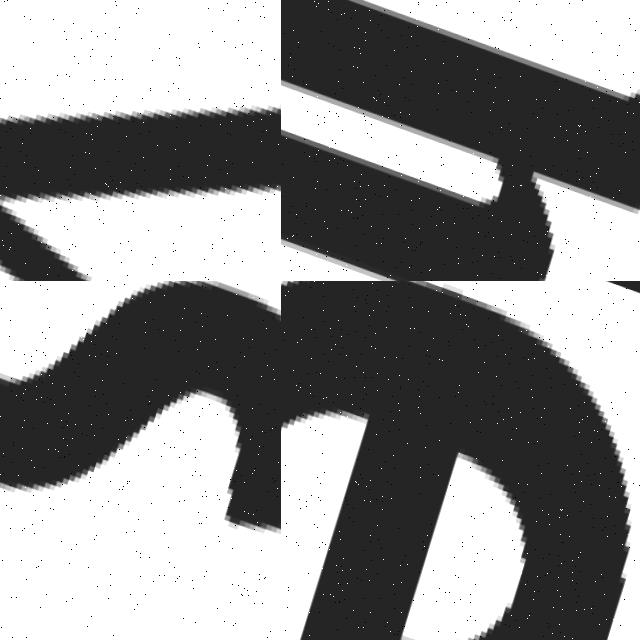E: (281, 281, 625, 640)
H: (281, 0, 640, 281)
S: (0, 281, 281, 608)
V: (0, 0, 281, 281)
